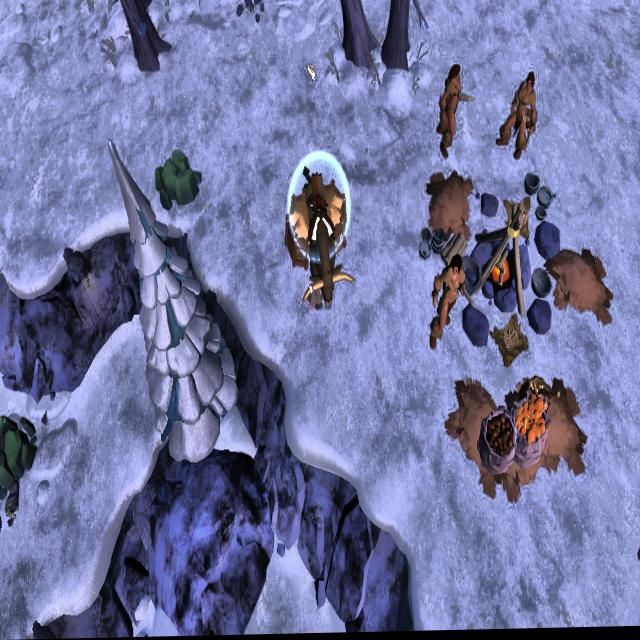enemy_factionKeeper: (427, 252, 470, 359), (496, 68, 537, 162), (435, 66, 471, 164)
rock_t3: (0, 410, 39, 497), (155, 147, 206, 208)
